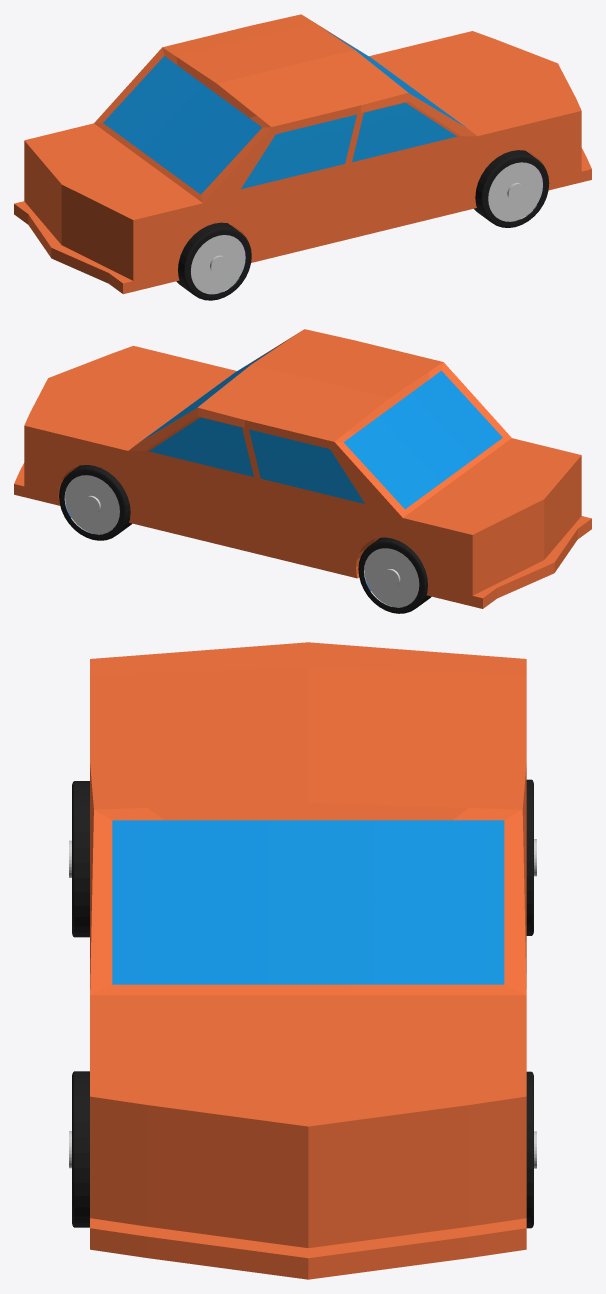
File: shitbox.glb
3 renders of one model, top to bottom at view 1: azimuth 30°, elevation 25°; view 2: azimuth 150°, elevation 25°; view 3: azimuth 270°, elevation 25°, orthographic. The views are drawn at different scales.
Visible parts, largest first — view 1: Car, Tire.001, Tire; view 2: Car, Tire.002, Tire.003; view 3: Car, Tire.001, Tire, Tire.002, Tire.003.
Part boxes in pixels (bbox=[...]): Car: bbox=[14, 14, 591, 294]; Tire.001: bbox=[176, 222, 251, 300]; Tire: bbox=[474, 150, 549, 227]; Car: bbox=[14, 329, 591, 608]; Tire.002: bbox=[59, 465, 131, 540]; Tire.003: bbox=[358, 537, 431, 613]; Car: bbox=[90, 642, 526, 1279]; Tire.001: bbox=[69, 781, 89, 937]; Tire: bbox=[69, 1071, 89, 1227]; Tire.002: bbox=[526, 1071, 536, 1228]; Tire.003: bbox=[526, 779, 536, 935].
Bounding box in the file's own units: 15.12 × 4.45 × 5.93.
Materials: 2 (2 with a texture image).
